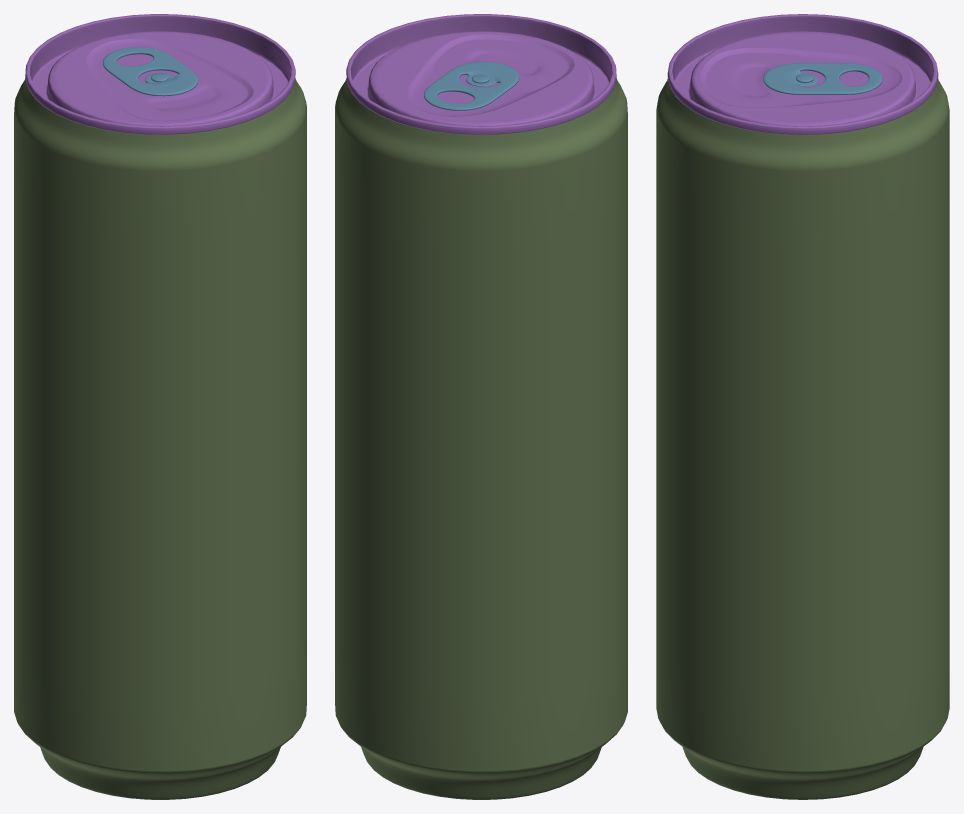
Rendered from Canmodel_fbx.fbx.
3 views of the same model, side by side, from view 1: azimuth 30°, elevation 25°; view 2: azimuth 150°, elevation 25°; view 3: azimuth 270°, elevation 25° (orthographic).
Visible parts, largest first — view 1: Can_body, Top_cap, cap_1; view 2: Can_body, Top_cap, cap_1; view 3: Can_body, Top_cap, cap_1.
Boxes of the visible parts, x1,y1,x2,y2 form: Can_body: [14, 78, 306, 799]; Top_cap: [25, 14, 295, 134]; cap_1: [103, 47, 198, 96]; Can_body: [335, 78, 627, 799]; Top_cap: [346, 14, 616, 134]; cap_1: [424, 61, 519, 110]; Can_body: [656, 78, 949, 799]; Top_cap: [667, 14, 938, 134]; cap_1: [763, 63, 882, 94].
Bounding box in the file's own units: 2.76 × 7.06 × 2.76.
